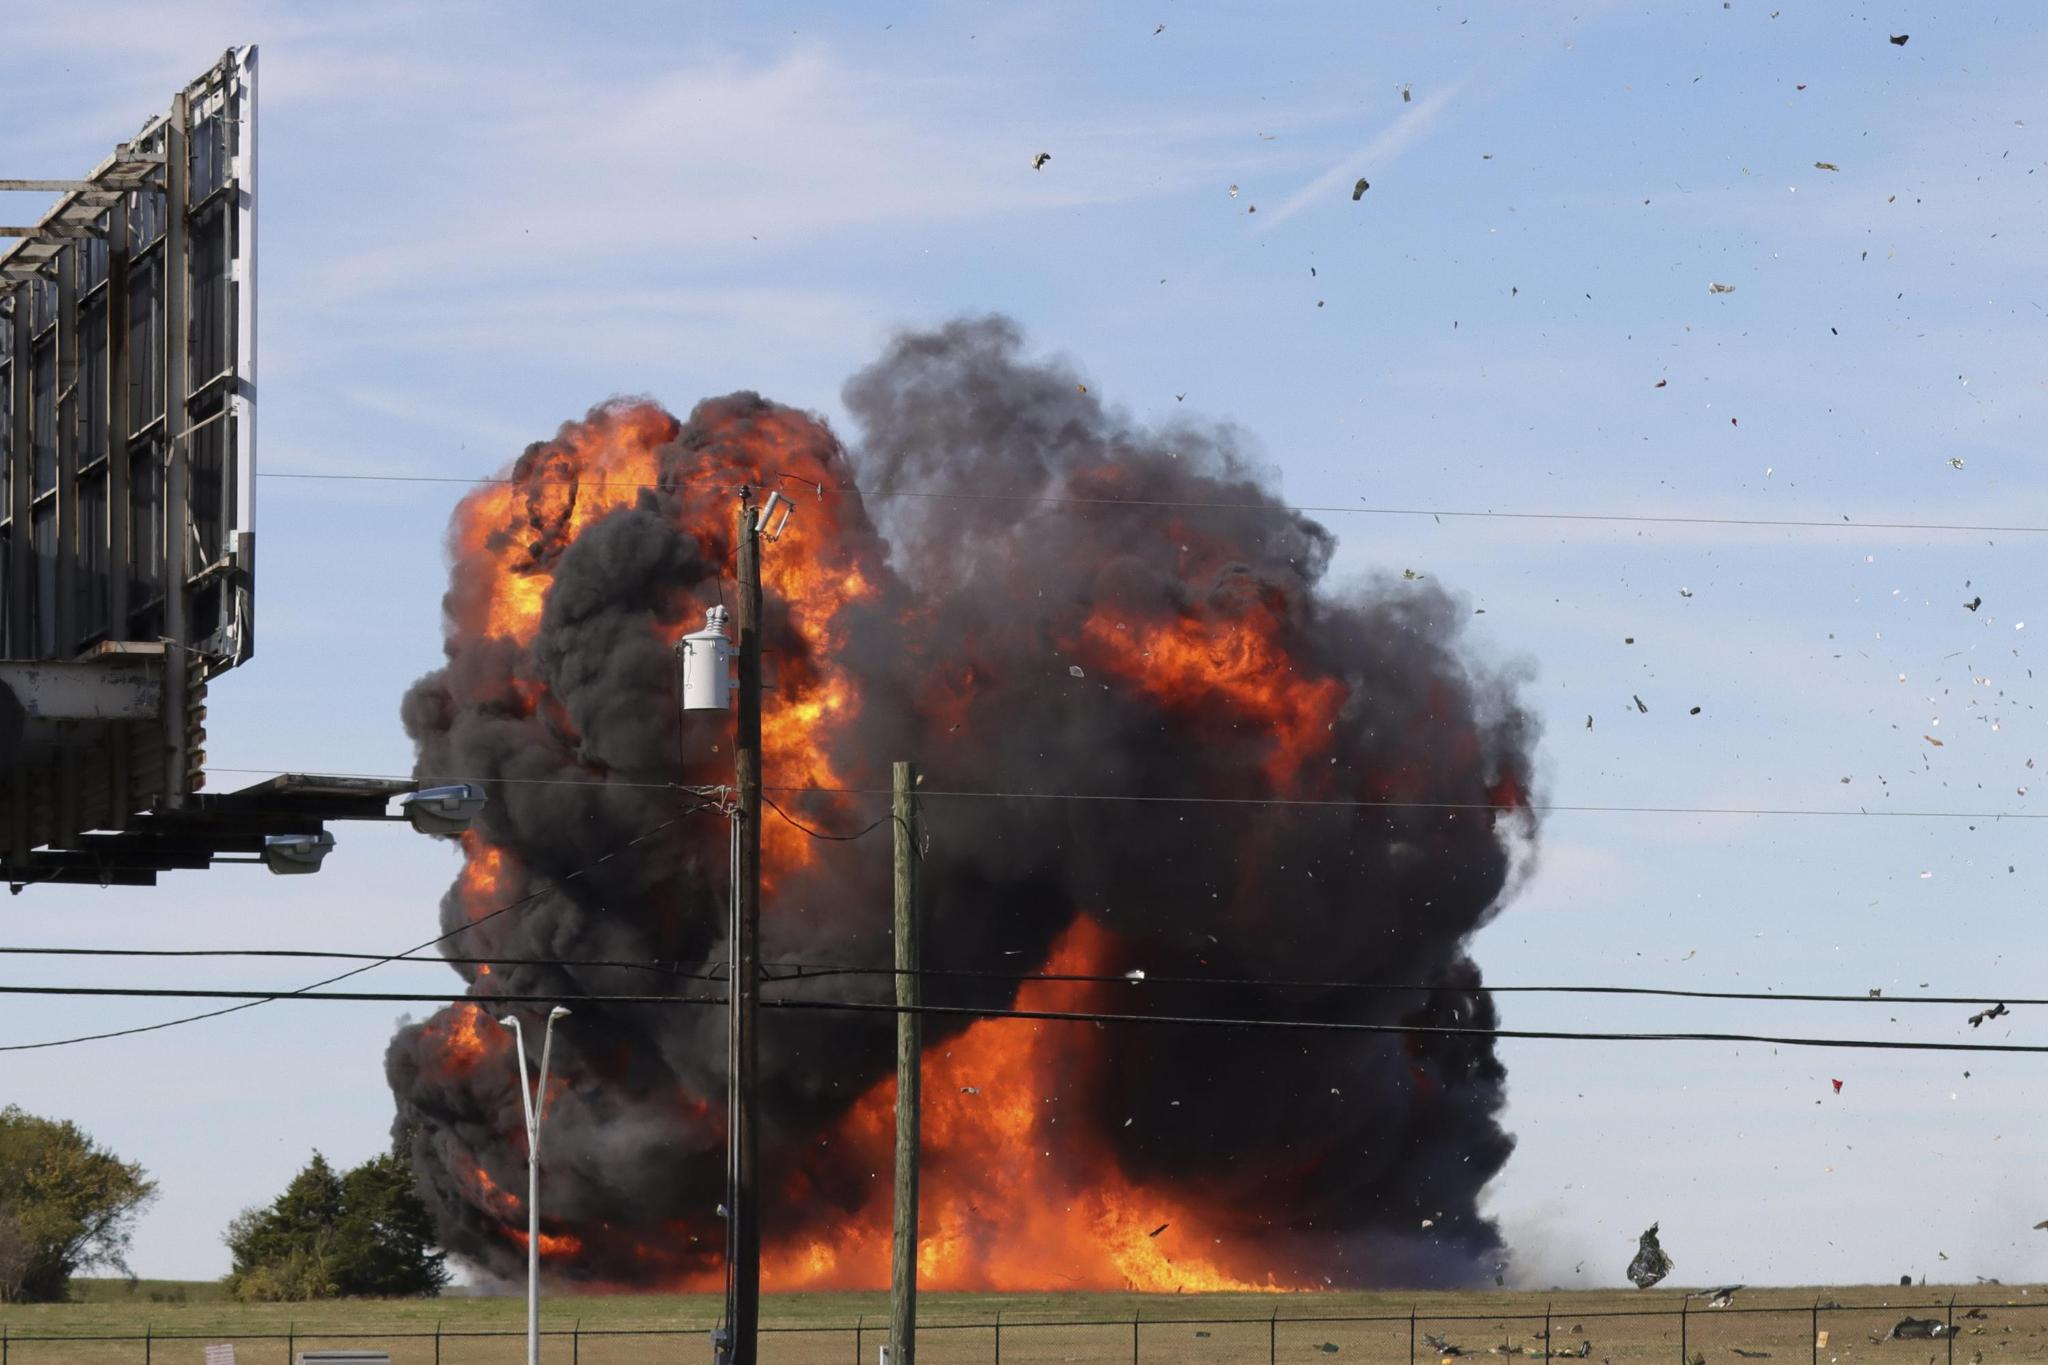Explosion: (417, 305, 1529, 1299)
